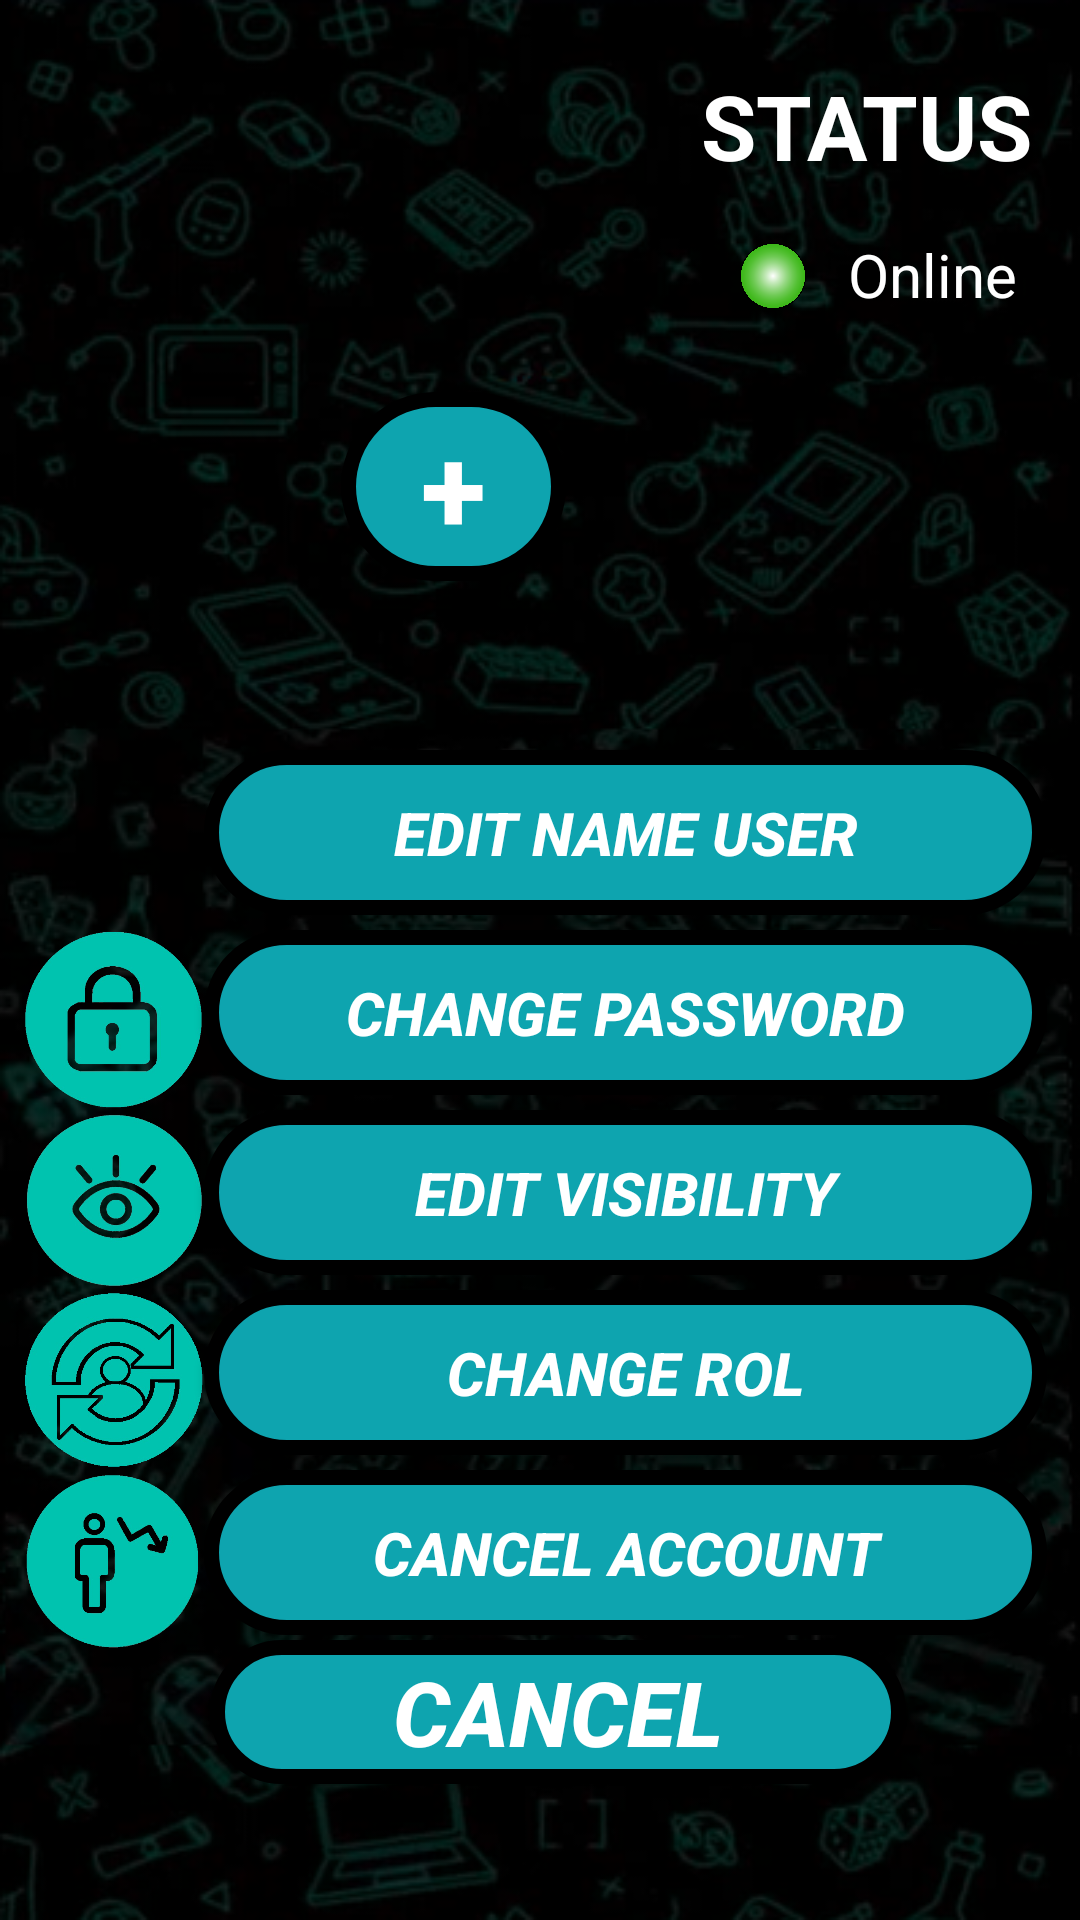

Named icons in this screenshot (1080px x 1920px) and their centers, point (x, y):
dardebajausuario: point (111, 1559)
passwordlock: point (113, 1020)
